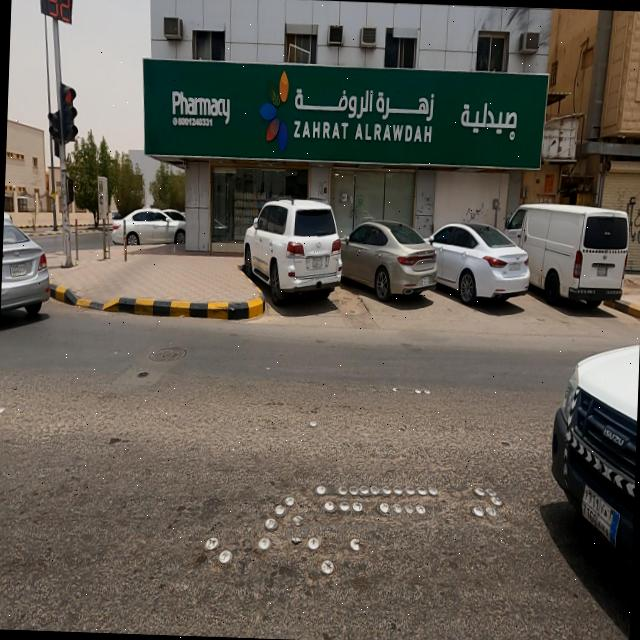Graffiti: (626, 193, 640, 251), (462, 202, 488, 225)
